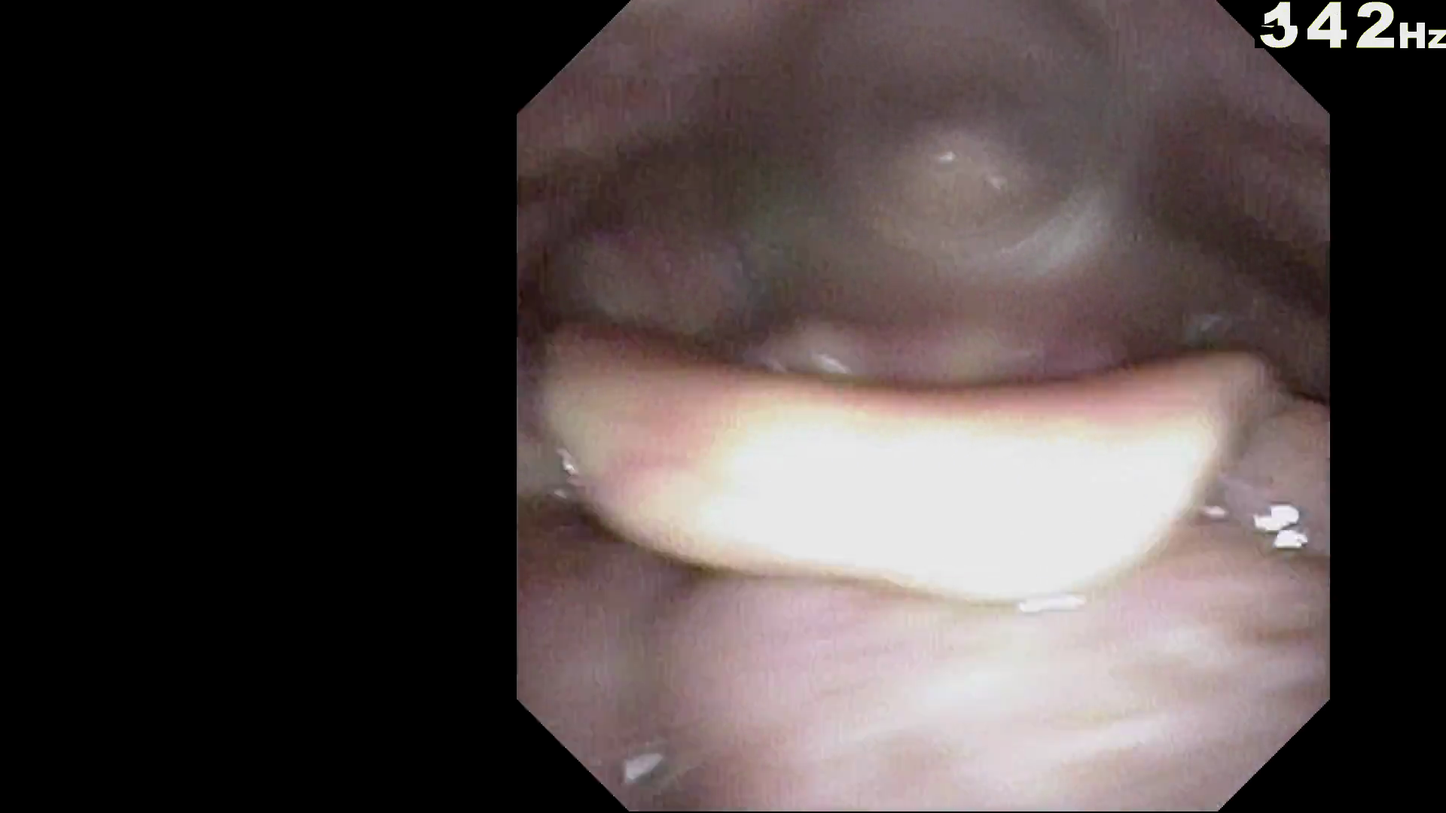epiglottis: (603, 360, 1218, 585)
